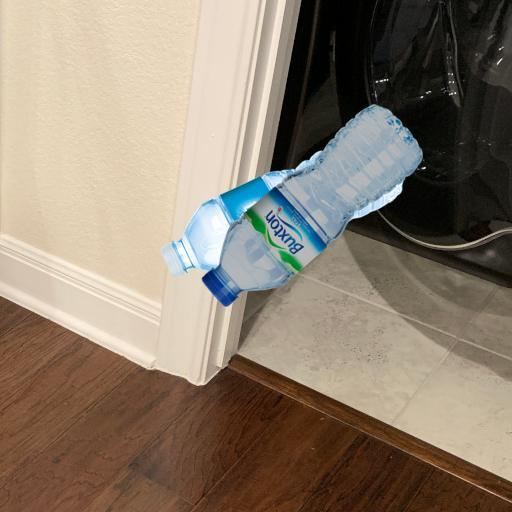bottle: (151, 0, 433, 154)
